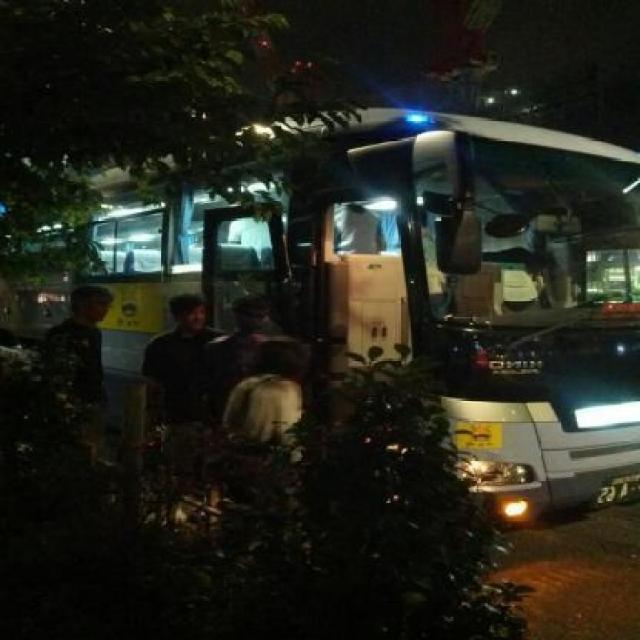Bus: (19, 128, 632, 444)
